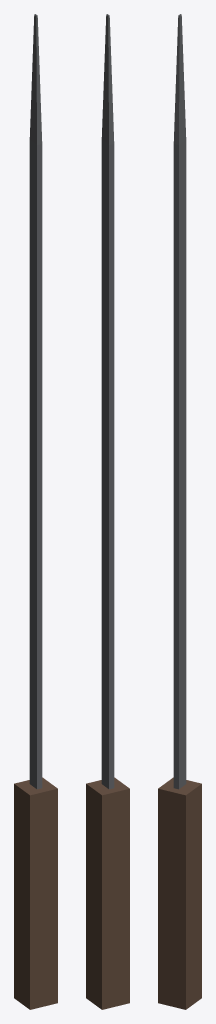
Rendered from skewer.fbx.
3 views of the same model, side by side, from view 1: azimuth 30°, elevation 25°; view 2: azimuth 210°, elevation 25°; view 3: azimuth 330°, elevation 25° (orthographic).
Visible parts, largest first — view 1: skewer; view 2: skewer; view 3: skewer.
Boxes of the visible parts, <box> form: skewer: <box>14,14,57,1009</box>; skewer: <box>86,14,129,1009</box>; skewer: <box>158,14,201,1009</box>.
Bounding box in the file's own units: 3.45 × 117 × 3.45.
Materials: 1 (1 with a texture image).
